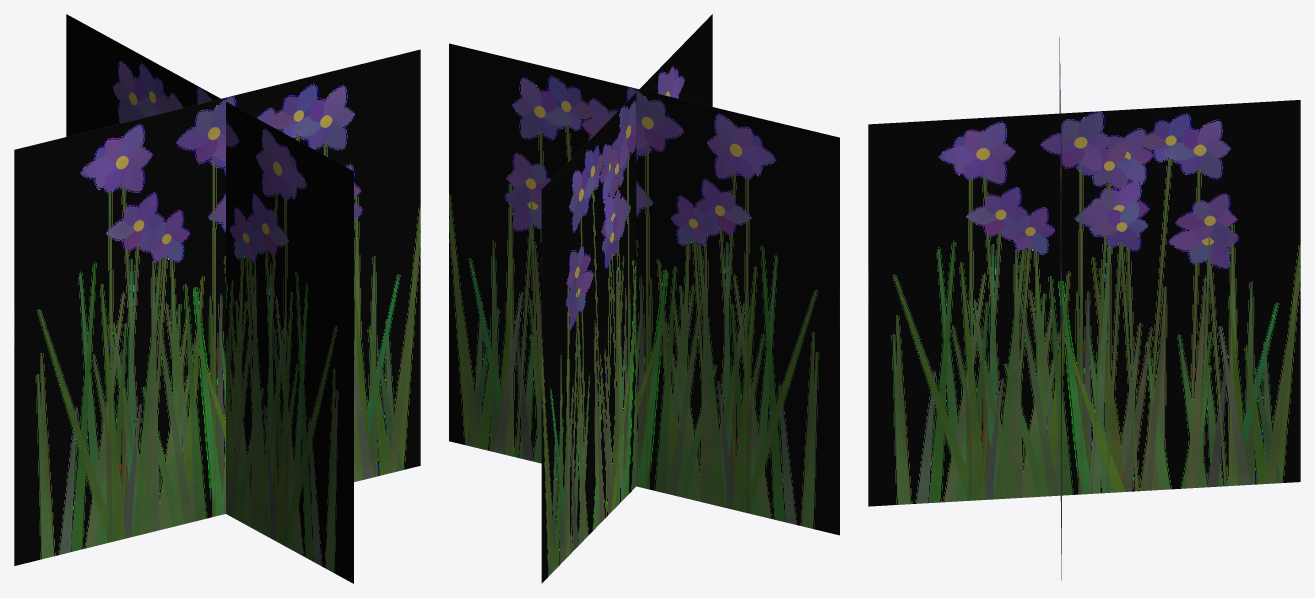
Rendered from Flower_Garden_1_LOD2.gltf.
The picture shows the model from 3 angles, left to right: view 1: azimuth 30°, elevation 25°; view 2: azimuth 150°, elevation 25°; view 3: azimuth 270°, elevation 25°; orthographic projection. The views are drawn at different scales.
Parts seen in each view (by area): view 1: Flower_Garden_1_LOD2; view 2: Flower_Garden_1_LOD2; view 3: Flower_Garden_1_LOD2.
Part boxes in pixels (box(x1,y1,x2,y2)): Flower_Garden_1_LOD2: box(14, 14, 420, 583); Flower_Garden_1_LOD2: box(449, 14, 839, 583); Flower_Garden_1_LOD2: box(868, 37, 1300, 580).
Size of the model in its own units: 0.8995 by 0.878 by 0.8915.
1 material, 1 textured.
